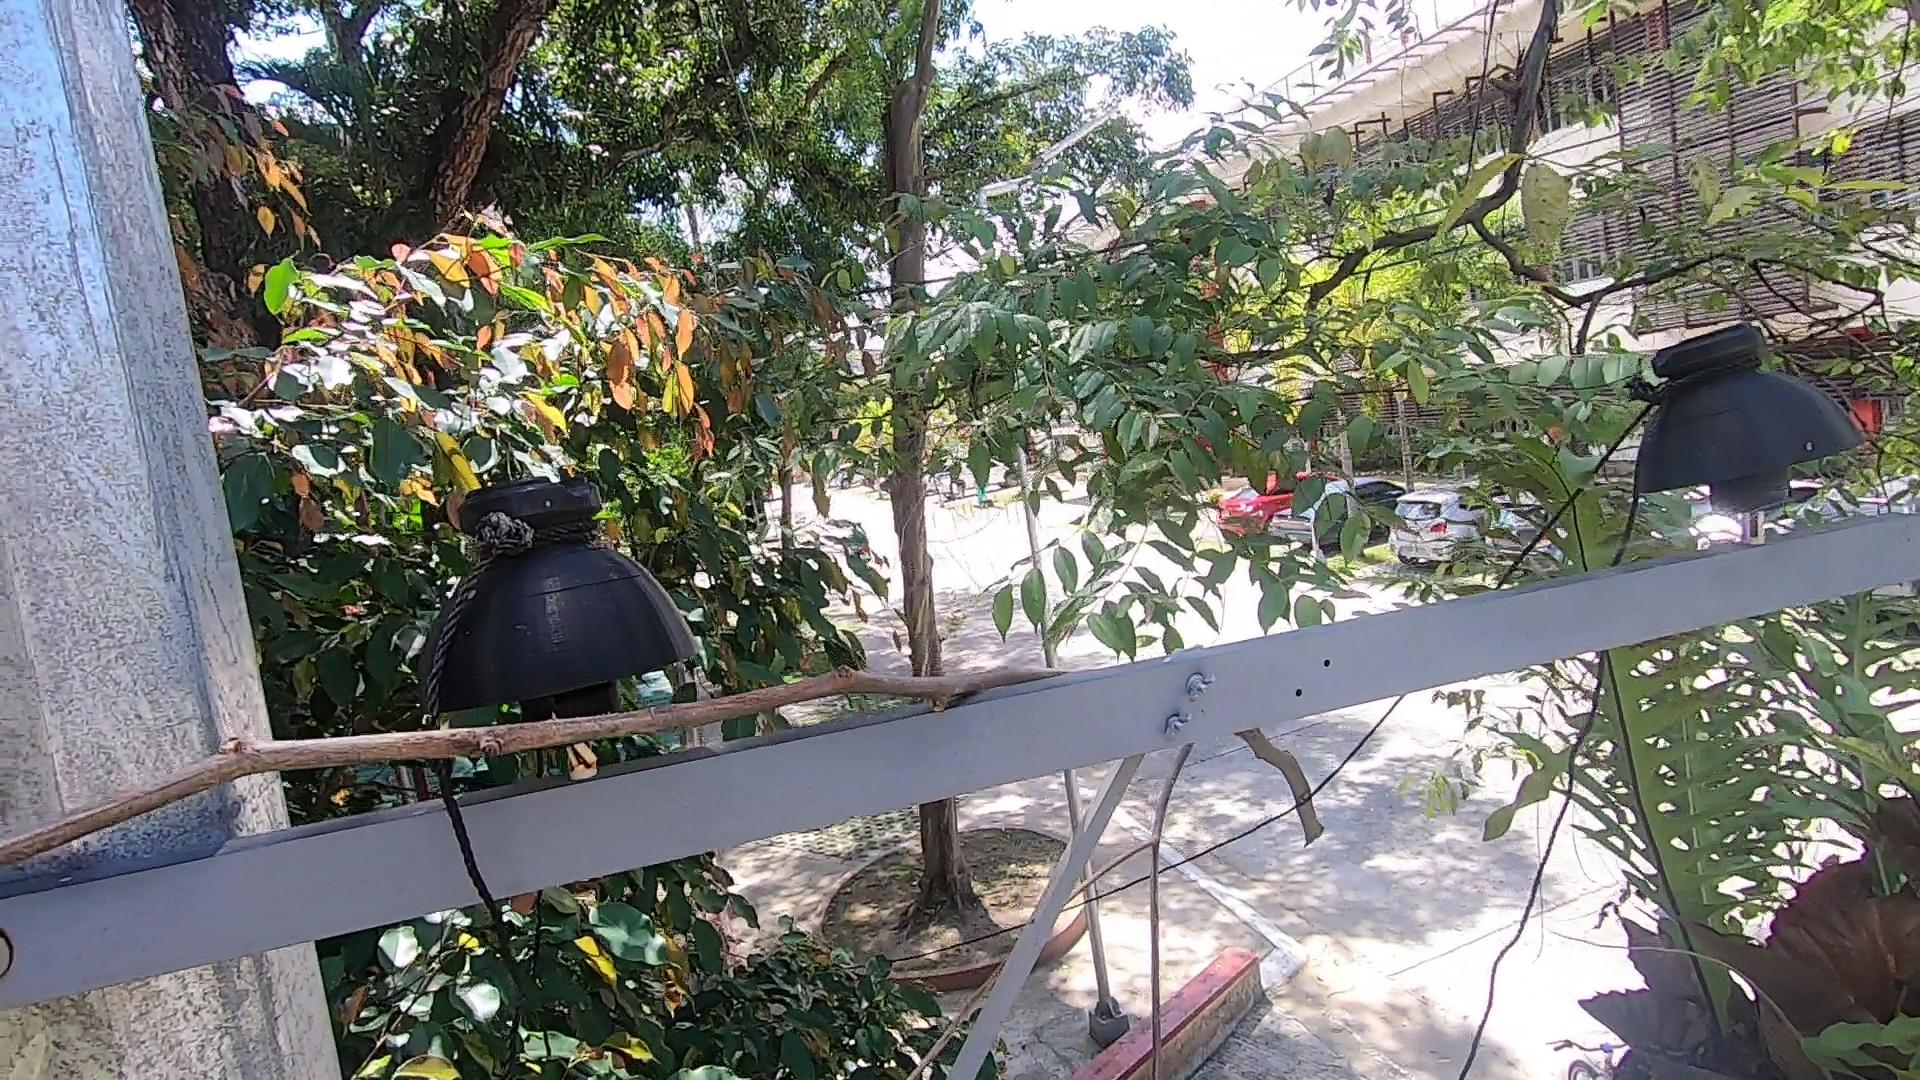tree branch: (1, 657, 1033, 901), (1058, 744, 1204, 1080), (887, 959, 1004, 1080), (1240, 731, 1338, 862)
